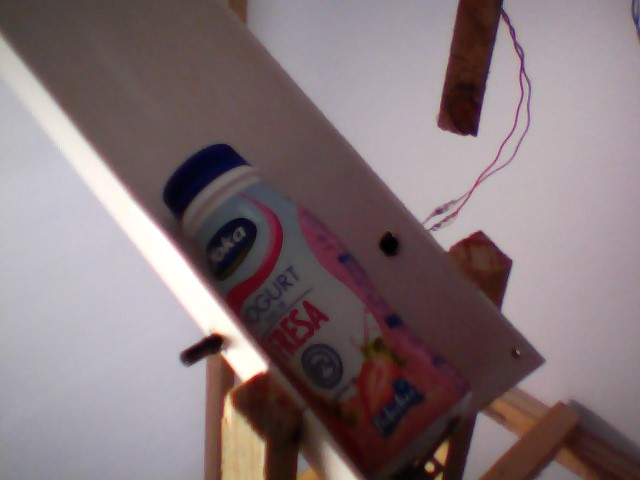plastico: (143, 137, 486, 473)
